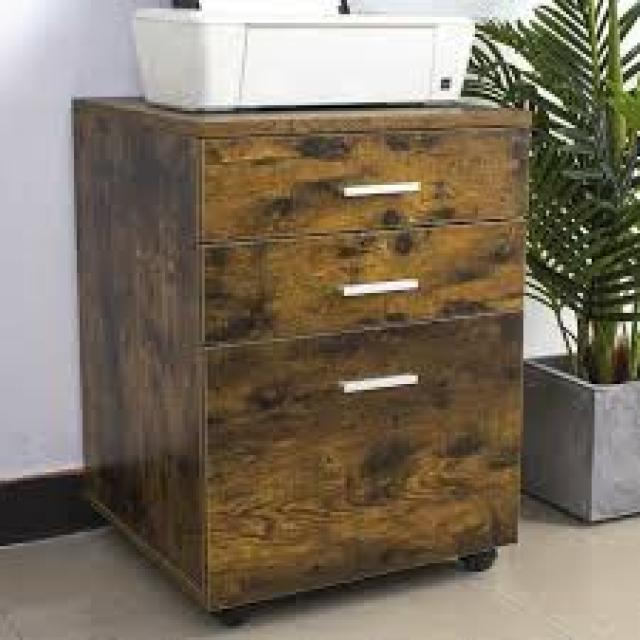printer: (131, 0, 478, 111)
